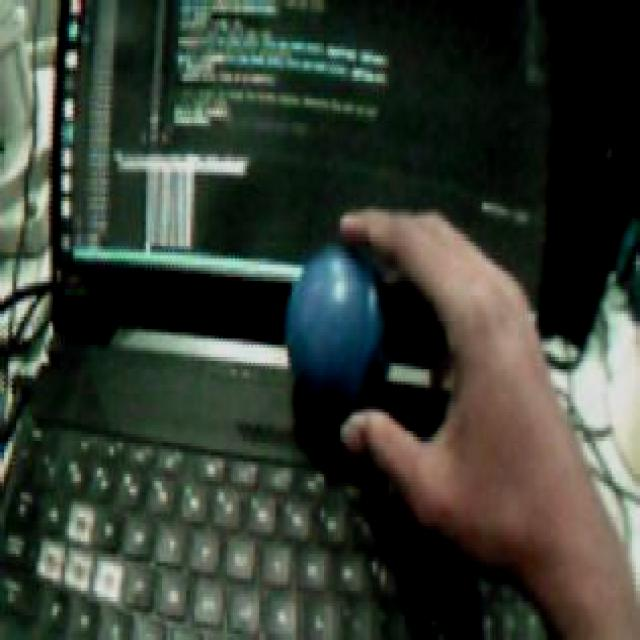BallPurple: (286, 245, 392, 419)
